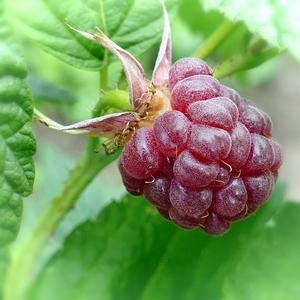raspb: (119, 79, 282, 231)
